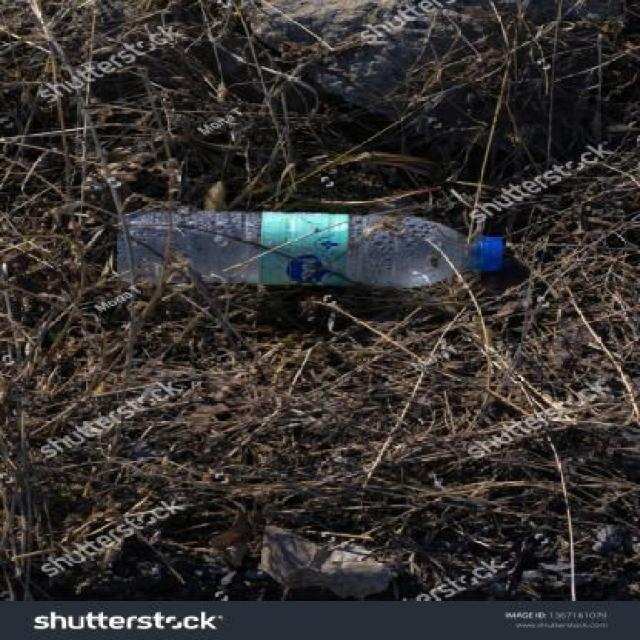bottle: (104, 200, 519, 304)
